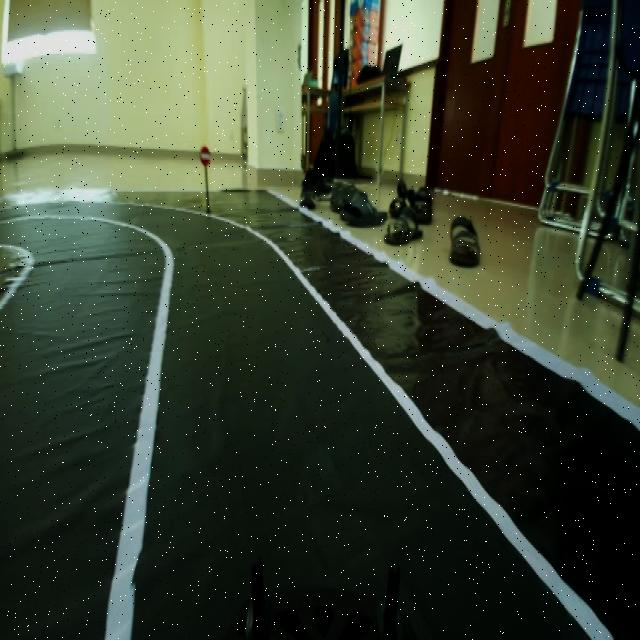no_entry: (196, 140, 214, 166)
